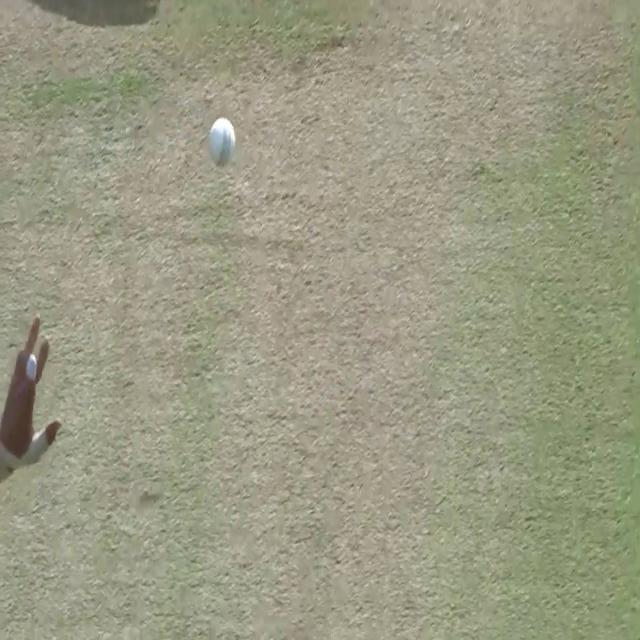ball: (205, 114, 237, 170)
